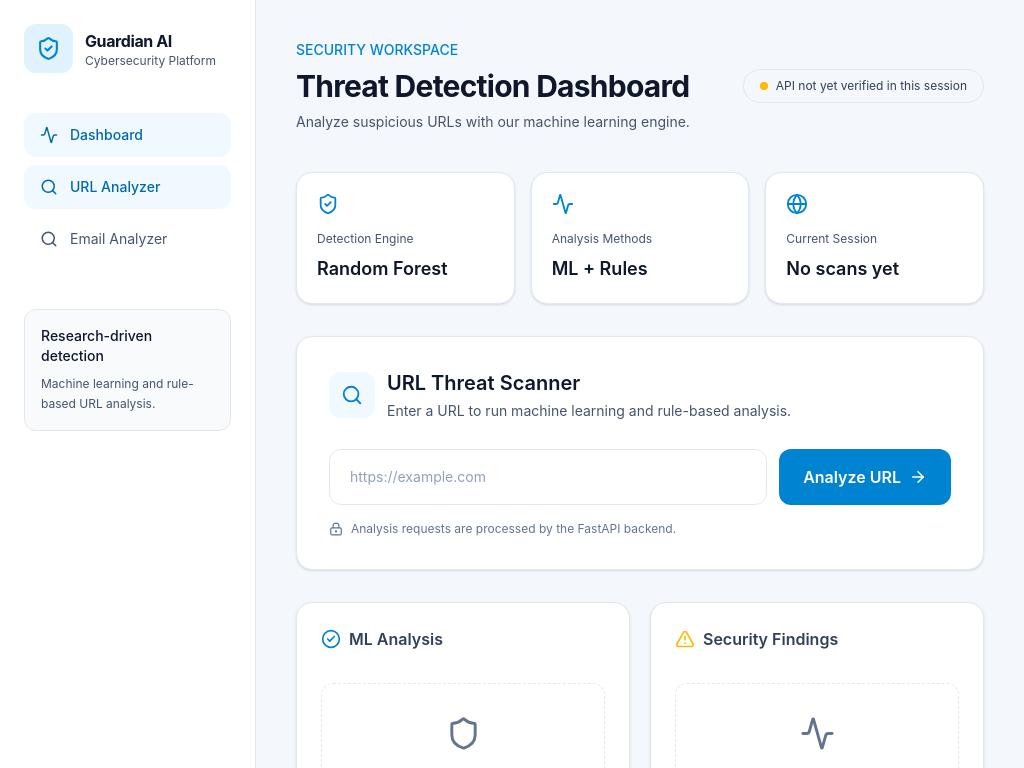
Test: Mode-specific dashboard information › shows the correct detection methodology for Email mode
This screenshot has width=1024, height=768.
Click the button "Email Analyzer" at (128, 239), box [24,217,231,261]
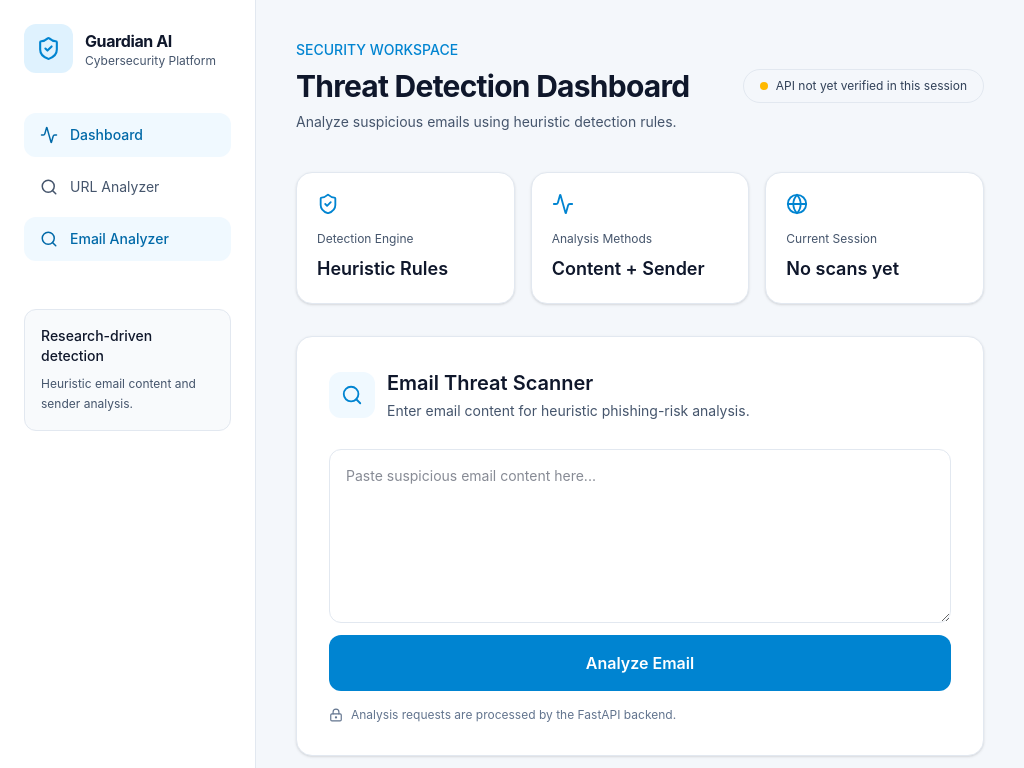
Now the text "Heuristic Rules" is shown, box [317,258,448,279]
Now the text "Content + Sender" is shown, box [552,255,728,283]
Now the heading "Email Threat Scanner" is shown, box [387,371,593,395]
